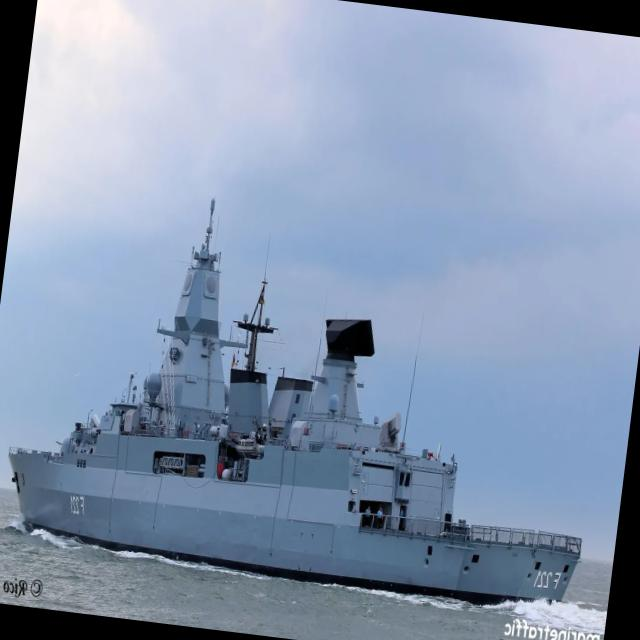Military: (8, 199, 581, 600)
